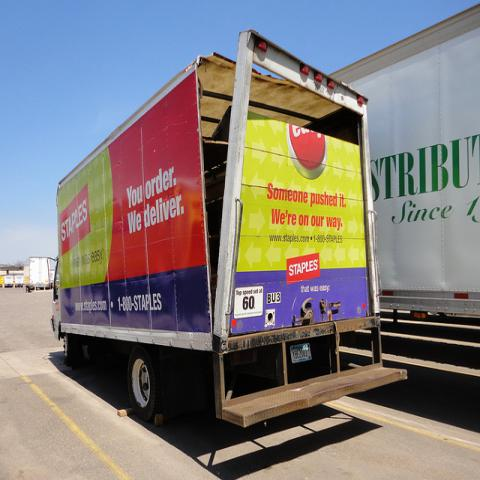truck: (55, 35, 403, 430), (326, 3, 480, 378), (29, 257, 54, 291), (15, 275, 24, 288), (5, 276, 14, 287)
